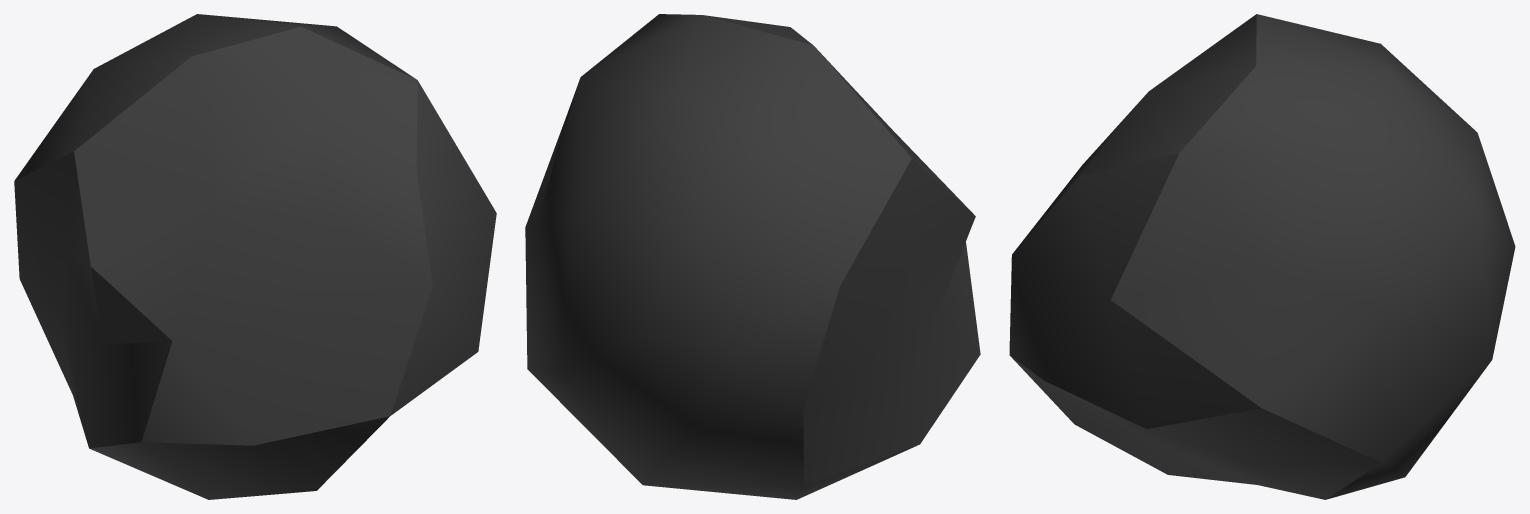
Rendered from rock1light.FBX.
3 views of the same model, side by side, from view 1: azimuth 30°, elevation 25°; view 2: azimuth 150°, elevation 25°; view 3: azimuth 270°, elevation 25° (orthographic). The views are drawn at different scales.
Visible parts, largest first — view 1: default; view 2: default; view 3: default.
Part boxes in pixels (x1,y1,x2,y2): default: (14,14,496,499); default: (525,14,980,499); default: (1009,14,1515,499).
Size of the model in its own units: 0.0475 by 0.0491 by 0.0491.
Materials: 1 (1 with a texture image).
